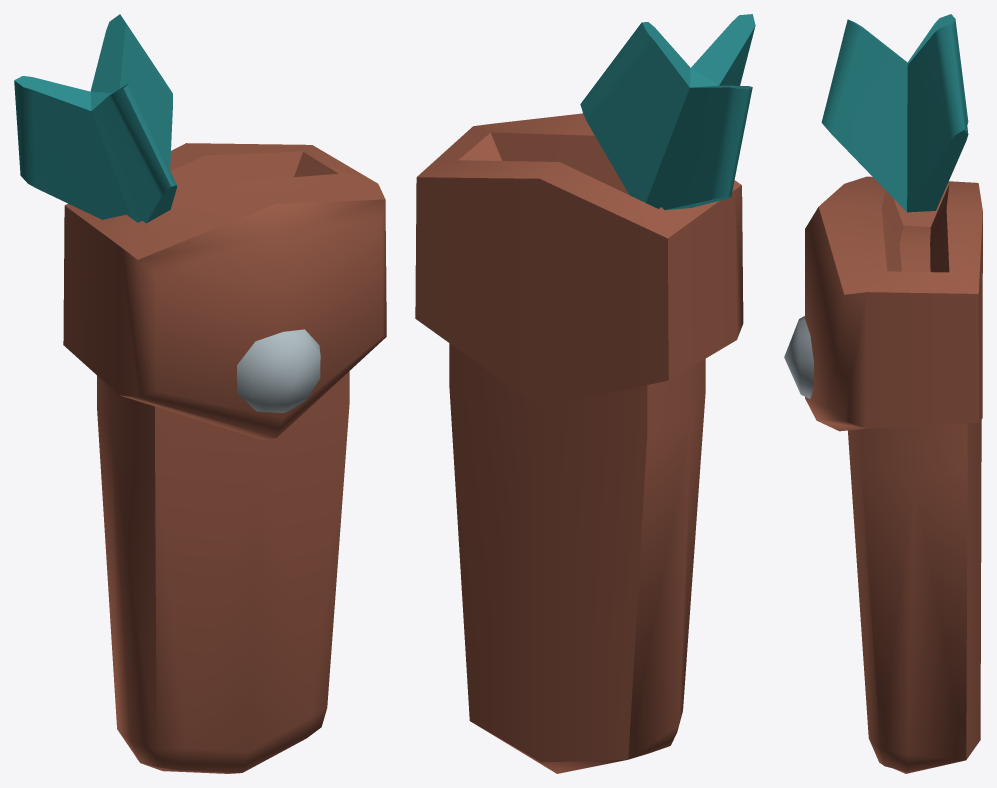
File: kaykit-quiver-half-full.glb
3 views of the same model, side by side, from view 1: azimuth 30°, elevation 25°; view 2: azimuth 150°, elevation 25°; view 3: azimuth 270°, elevation 25° (orthographic). The views are drawn at different scales.
Parts seen in each view (by area): view 1: quiver_half_full; view 2: quiver_half_full; view 3: quiver_half_full.
Boxes of the visible parts, bbox=[...] form: quiver_half_full: bbox=[14, 14, 386, 773]; quiver_half_full: bbox=[415, 14, 755, 773]; quiver_half_full: bbox=[784, 14, 982, 773].
Bounding box in the file's own units: 0.3038 × 0.6914 × 0.1779.
